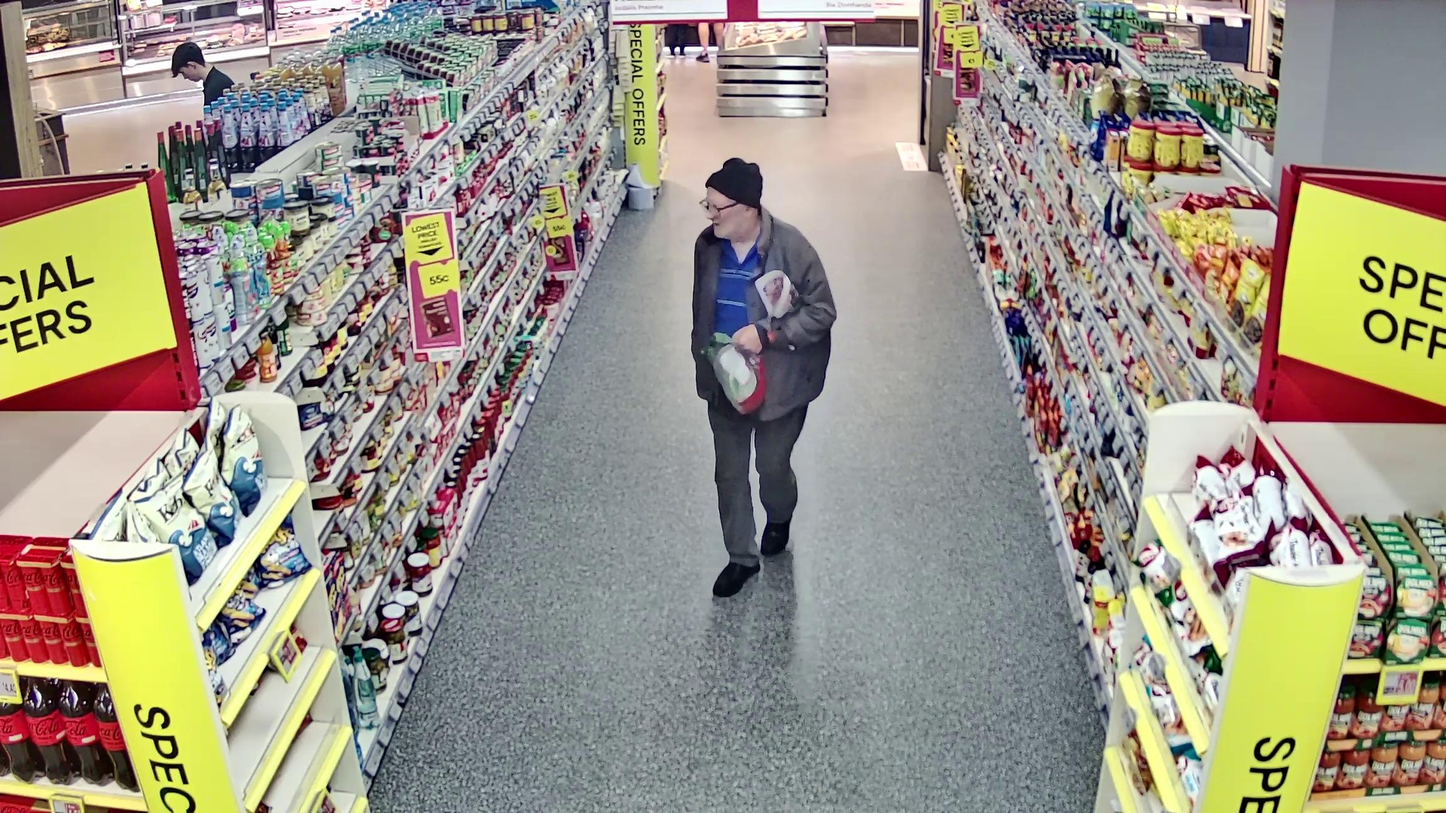carrying-item: (701, 330, 767, 414), (754, 270, 799, 319)
person: (690, 155, 838, 599)
person-with-carrying-item: (690, 155, 838, 597)
